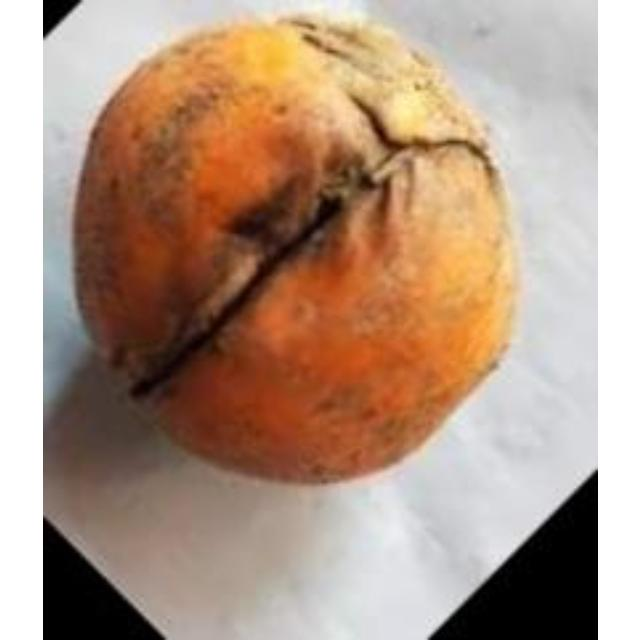damaged: (69, 13, 520, 489)
